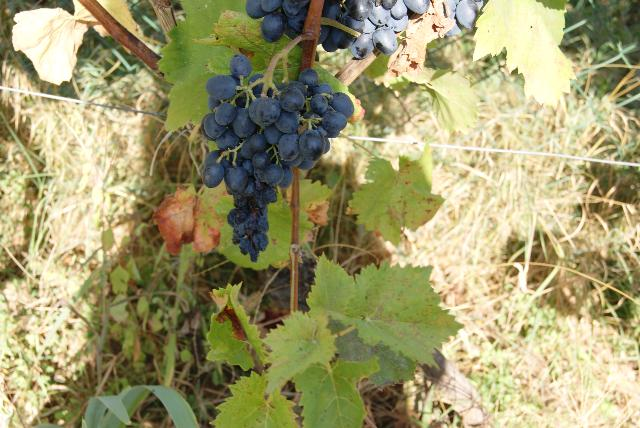grapes: (201, 54, 351, 261), (319, 0, 430, 59), (246, 0, 309, 41), (442, 0, 484, 36)
